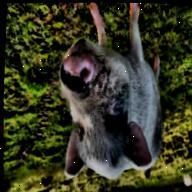boar: (52, 1, 170, 184), (182, 174, 192, 186)
